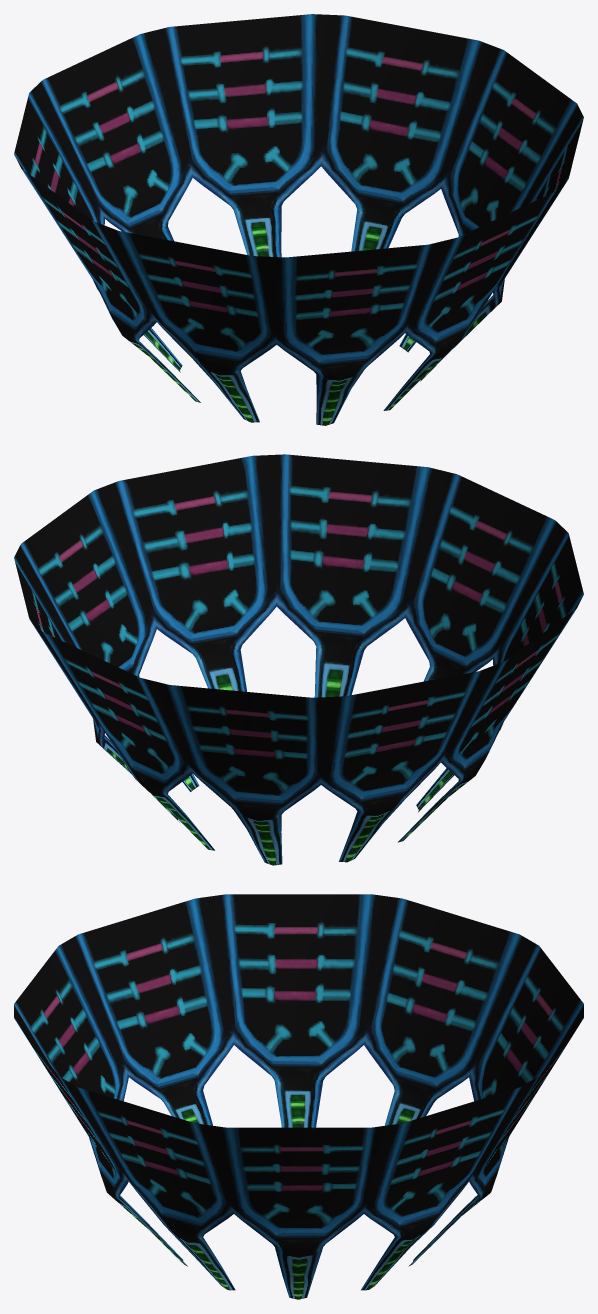
Rendered from cjk1.FBX.
3 renders of one model, top to bottom at view 1: azimuth 30°, elevation 25°; view 2: azimuth 150°, elevation 25°; view 3: azimuth 270°, elevation 25°, orthographic.
Parts seen in each view (by area): view 1: polySurface4; view 2: polySurface4; view 3: polySurface4.
Part boxes in pixels (x1=…): polySurface4: x1=14, y1=14, x2=583, y2=425; polySurface4: x1=14, y1=454, x2=583, y2=865; polySurface4: x1=14, y1=894, x2=583, y2=1299.
Size of the model in its own units: 240 by 114 by 248.
1 material, 1 textured.
